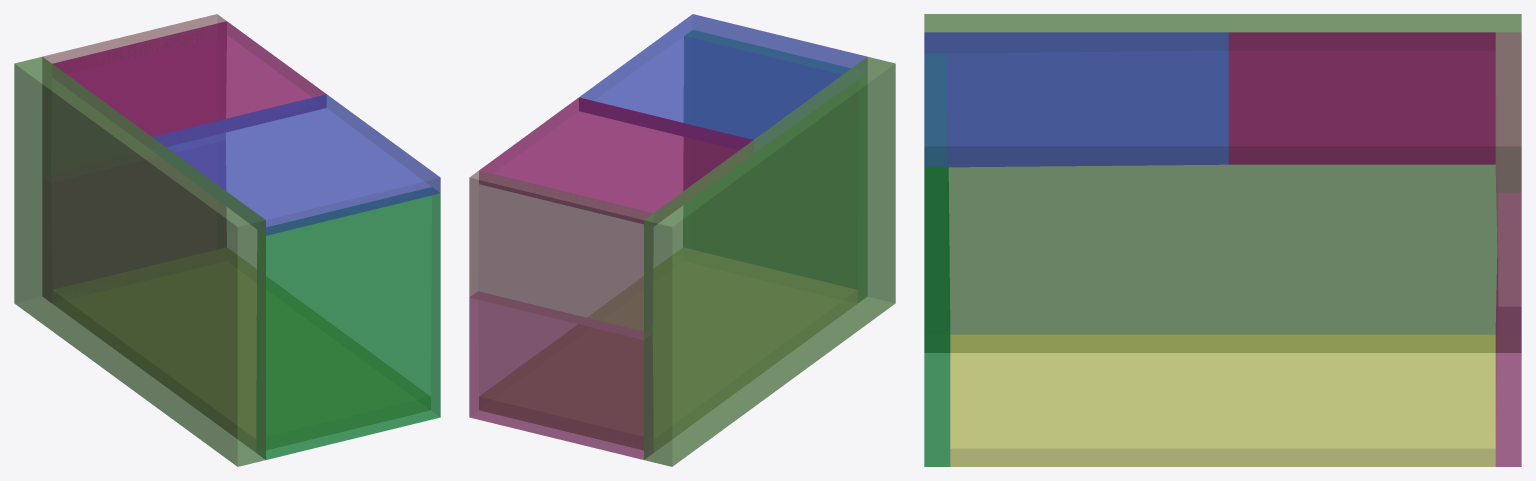
File: Fridge.obj
The picture shows the model from 3 angles, left to right: view 1: azimuth 30°, elevation 25°; view 2: azimuth 150°, elevation 25°; view 3: azimuth 270°, elevation 25°; orthographic projection. The views are drawn at different scales.
Visible parts, largest first — view 1: Shape_IndexedFaceSet_Shape_IndexedFaceSet.183, Shape_IndexedFaceSet.001_Shape_IndexedFaceSet.184, Shape_IndexedFaceSet.005_Shape_IndexedFaceSet.188, Shape_IndexedFaceSet.006_Shape_IndexedFaceSet.189, Shape_IndexedFaceSet.003_Shape_IndexedFaceSet.186, Shape_IndexedFaceSet.002_Shape_IndexedFaceSet.185, Shape_IndexedFaceSet.004_Shape_IndexedFaceSet.187; view 2: Shape_IndexedFaceSet_Shape_IndexedFaceSet.183, Shape_IndexedFaceSet.005_Shape_IndexedFaceSet.188, Shape_IndexedFaceSet.001_Shape_IndexedFaceSet.184, Shape_IndexedFaceSet.002_Shape_IndexedFaceSet.185, Shape_IndexedFaceSet.004_Shape_IndexedFaceSet.187, Shape_IndexedFaceSet.006_Shape_IndexedFaceSet.189, Shape_IndexedFaceSet.003_Shape_IndexedFaceSet.186; view 3: Shape_IndexedFaceSet_Shape_IndexedFaceSet.183, Shape_IndexedFaceSet.005_Shape_IndexedFaceSet.188, Shape_IndexedFaceSet.006_Shape_IndexedFaceSet.189, Shape_IndexedFaceSet.003_Shape_IndexedFaceSet.186, Shape_IndexedFaceSet.001_Shape_IndexedFaceSet.184, Shape_IndexedFaceSet.002_Shape_IndexedFaceSet.185, Shape_IndexedFaceSet.004_Shape_IndexedFaceSet.187.
Boxes of the visible parts, x1,y1,x2,y2 form: Shape_IndexedFaceSet_Shape_IndexedFaceSet.183: (14,56,265,466); Shape_IndexedFaceSet.001_Shape_IndexedFaceSet.184: (257,187,440,459); Shape_IndexedFaceSet.005_Shape_IndexedFaceSet.188: (53,248,430,451); Shape_IndexedFaceSet.006_Shape_IndexedFaceSet.189: (152,94,440,235); Shape_IndexedFaceSet.003_Shape_IndexedFaceSet.186: (52,21,326,149); Shape_IndexedFaceSet.002_Shape_IndexedFaceSet.185: (43,14,226,175); Shape_IndexedFaceSet.004_Shape_IndexedFaceSet.187: (43,141,226,302); Shape_IndexedFaceSet_Shape_IndexedFaceSet.183: (644,56,895,466); Shape_IndexedFaceSet.005_Shape_IndexedFaceSet.188: (479,248,856,451); Shape_IndexedFaceSet.001_Shape_IndexedFaceSet.184: (683,30,866,302); Shape_IndexedFaceSet.002_Shape_IndexedFaceSet.185: (469,170,653,339); Shape_IndexedFaceSet.004_Shape_IndexedFaceSet.187: (469,291,652,459); Shape_IndexedFaceSet.006_Shape_IndexedFaceSet.189: (579,14,866,152); Shape_IndexedFaceSet.003_Shape_IndexedFaceSet.186: (479,97,753,225); Shape_IndexedFaceSet_Shape_IndexedFaceSet.183: (924,14,1521,352); Shape_IndexedFaceSet.005_Shape_IndexedFaceSet.188: (950,334,1495,466); Shape_IndexedFaceSet.006_Shape_IndexedFaceSet.189: (924,32,1228,167); Shape_IndexedFaceSet.003_Shape_IndexedFaceSet.186: (1228,32,1495,164); Shape_IndexedFaceSet.001_Shape_IndexedFaceSet.184: (924,53,950,466); Shape_IndexedFaceSet.002_Shape_IndexedFaceSet.185: (1495,32,1521,306); Shape_IndexedFaceSet.004_Shape_IndexedFaceSet.187: (1495,193,1521,466).
Bounding box in the file's own units: 0.4977 × 0.5622 × 0.9493.
